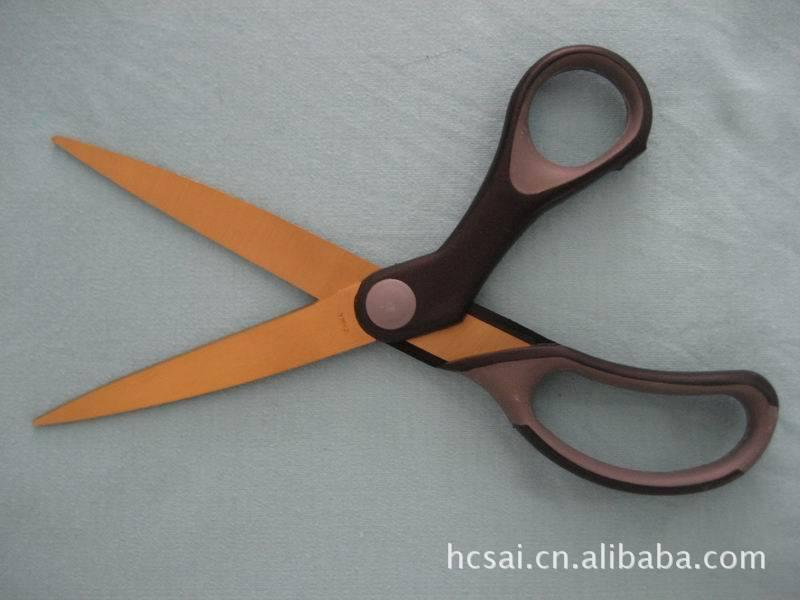scissor: (40, 56, 793, 556)
